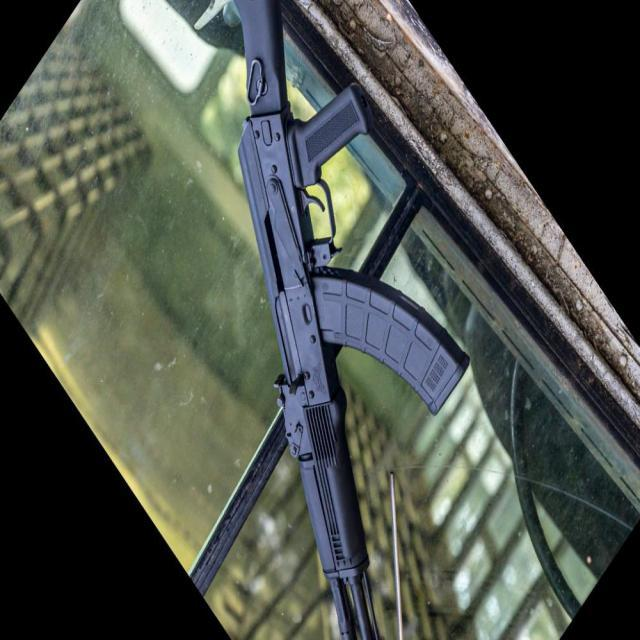weapon: (233, 0, 472, 640)
